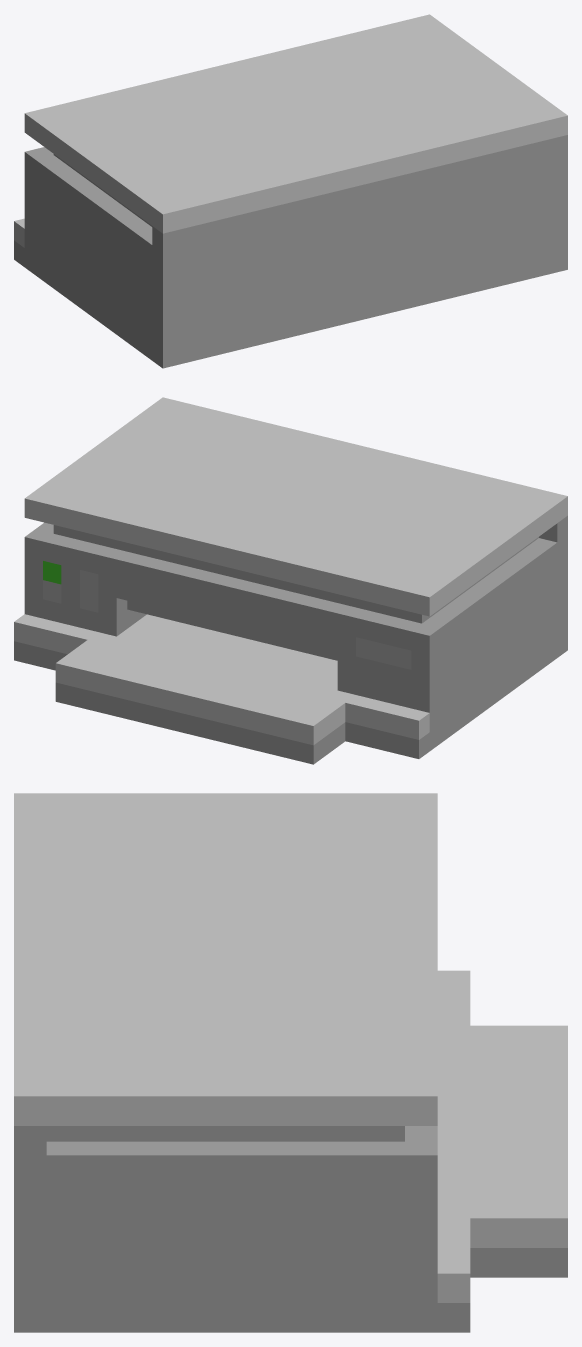
The model's file is printer.glb.
3 views of the same model, one above another, from view 1: azimuth 30°, elevation 25°; view 2: azimuth 150°, elevation 25°; view 3: azimuth 270°, elevation 25° (orthographic). The views are drawn at different scales.
Visible parts, largest first — view 1: Untitled; view 2: Untitled; view 3: Untitled.
Boxes of the visible parts, x1,y1,x2,y2 form: Untitled: (14, 14, 567, 368); Untitled: (14, 397, 567, 764); Untitled: (14, 793, 567, 1332).
Size of the model in its own units: 0.66 by 0.24 by 0.51.
2 materials, 2 textured.
